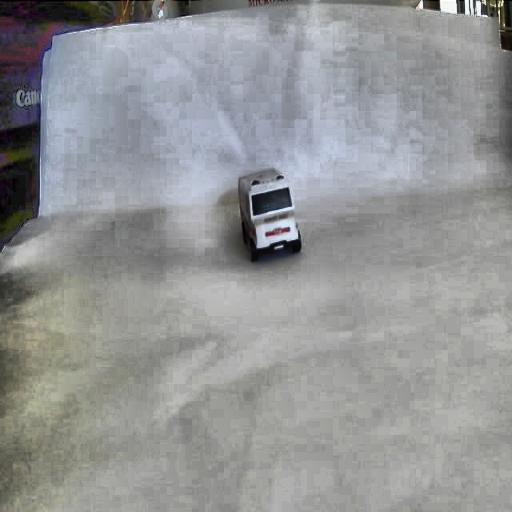ambulance: (238, 168, 300, 262)
